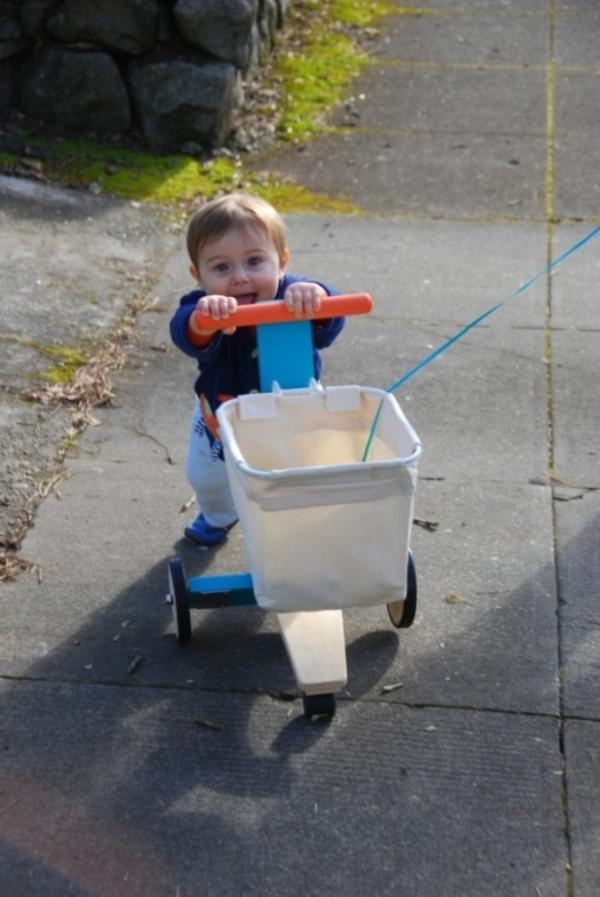person: (168, 195, 348, 560)
